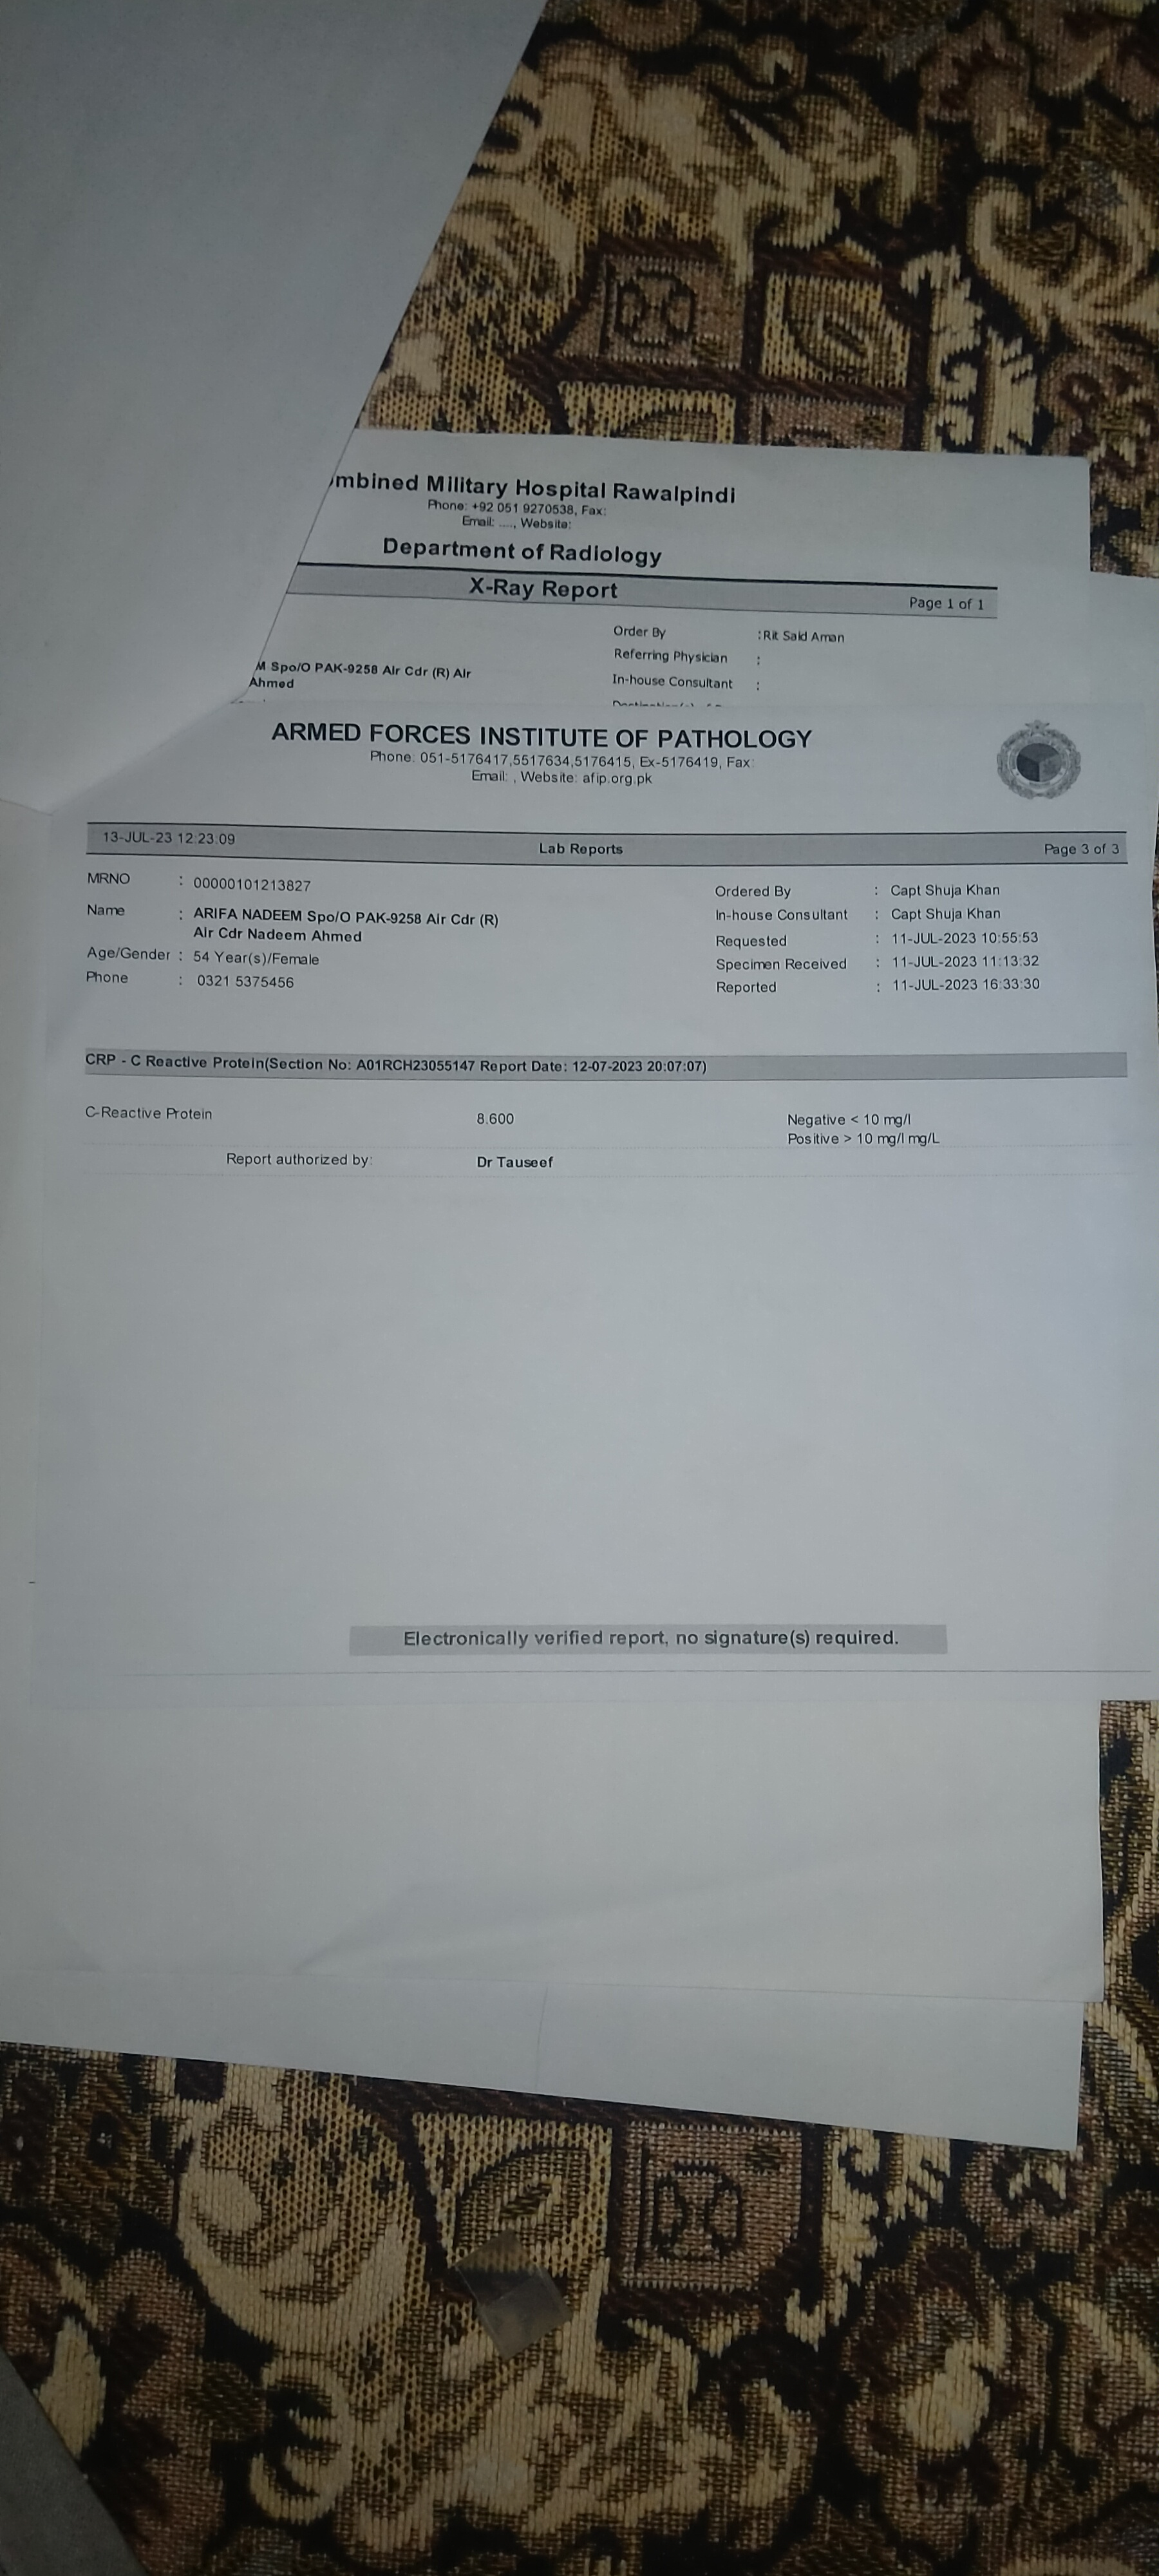report: (57, 1038, 1159, 1188)
